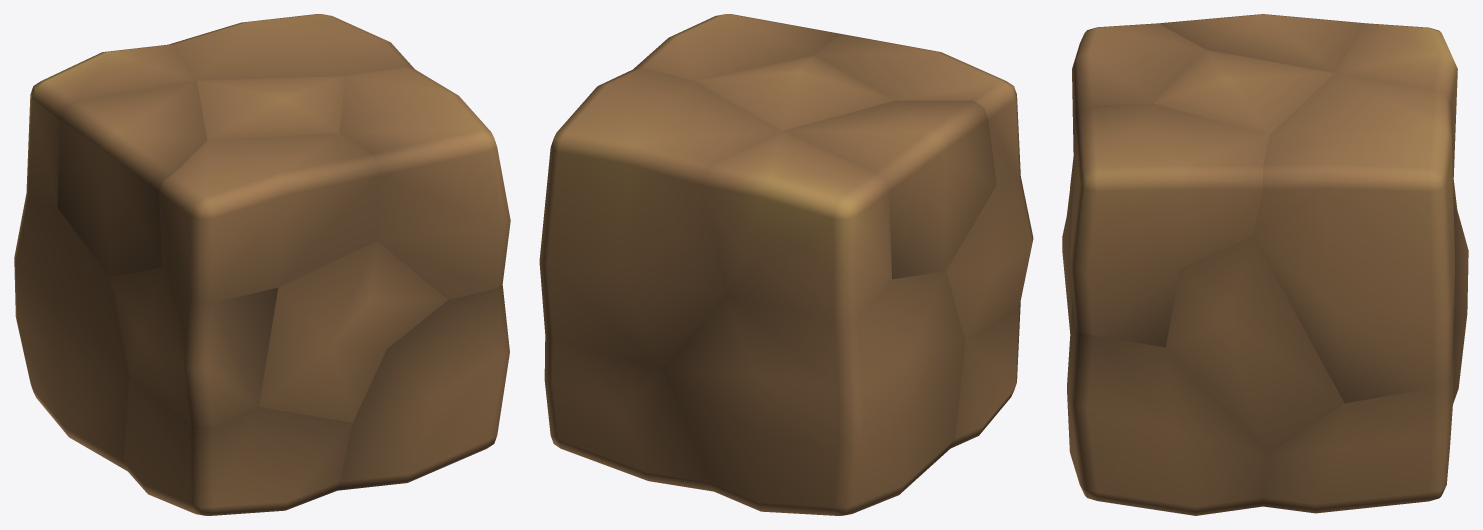
Rendered from Sandstone_Rock.fbx.
3 views of the same model, side by side, from view 1: azimuth 30°, elevation 25°; view 2: azimuth 150°, elevation 25°; view 3: azimuth 270°, elevation 25° (orthographic). The views are drawn at different scales.
Visible parts, largest first — view 1: Sandstone_Rock_LOD0; view 2: Sandstone_Rock_LOD0; view 3: Sandstone_Rock_LOD0.
Part boxes in pixels (x1,y1,x2,y2): Sandstone_Rock_LOD0: (14, 14, 510, 515); Sandstone_Rock_LOD0: (539, 14, 1033, 515); Sandstone_Rock_LOD0: (1062, 14, 1468, 515).
Size of what is drawn, in the model's own units: 1.14 by 1.18 by 1.15.
